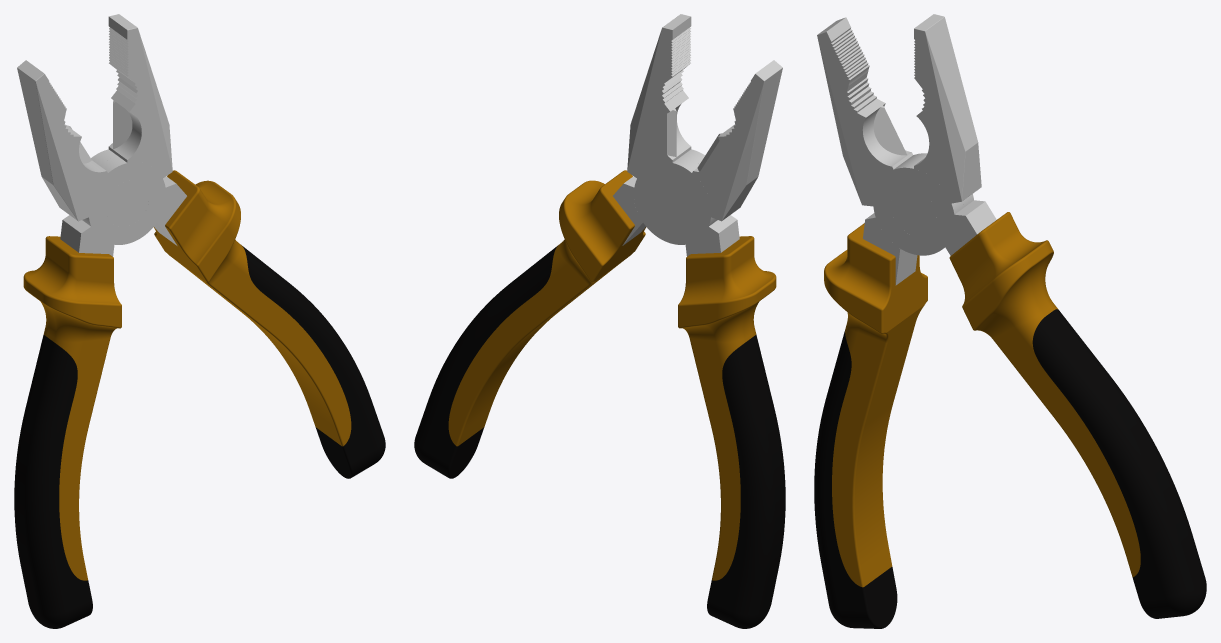
File: Combination Pliers open 30 degrees.obj
3 views of the same model, side by side, from view 1: azimuth 30°, elevation 25°; view 2: azimuth 150°, elevation 25°; view 3: azimuth 330°, elevation 25° (orthographic). The views are drawn at different scales.
Parts seen in each view (by area): view 1: Combination_Pliers_open_30_degrees; view 2: Combination_Pliers_open_30_degrees; view 3: Combination_Pliers_open_30_degrees.
Part boxes in pixels (x1,y1,x2,y2): Combination_Pliers_open_30_degrees: (14, 14, 385, 628); Combination_Pliers_open_30_degrees: (414, 14, 785, 628); Combination_Pliers_open_30_degrees: (814, 14, 1206, 628).
Bounding box in the file's own units: 99.99 × 156 × 21.
